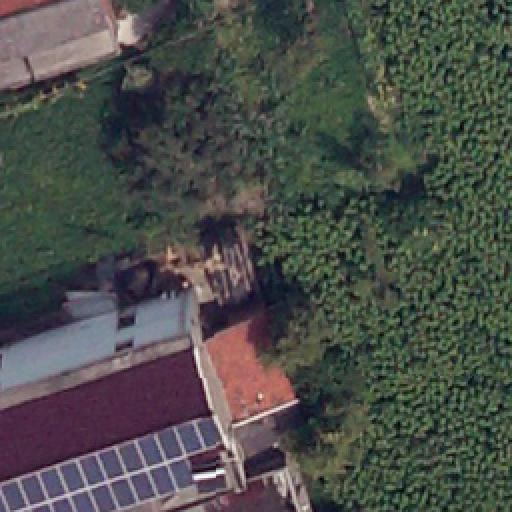solar-panel: (1, 416, 223, 512)
